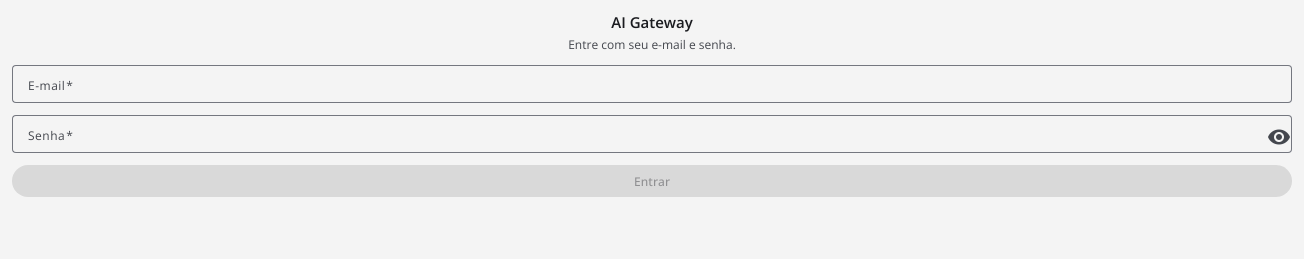
SignInComponent › error messages › should show the backend message when loading the current user fails
Type "ana@example.com" into the field named "email".
click(652, 84); type("ana@example.com")  # box x1=28 y1=72 x2=1276 y2=96
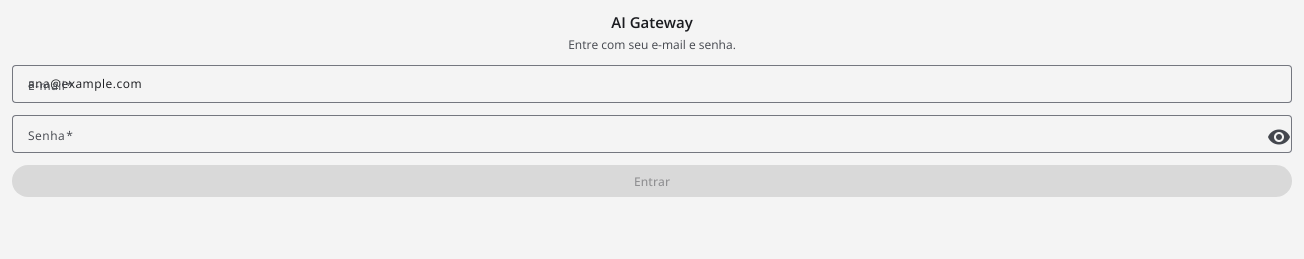
Type "secret-password" into the password field named "password".
click(642, 134); type("secret-password")  # box x1=28 y1=122 x2=1256 y2=146
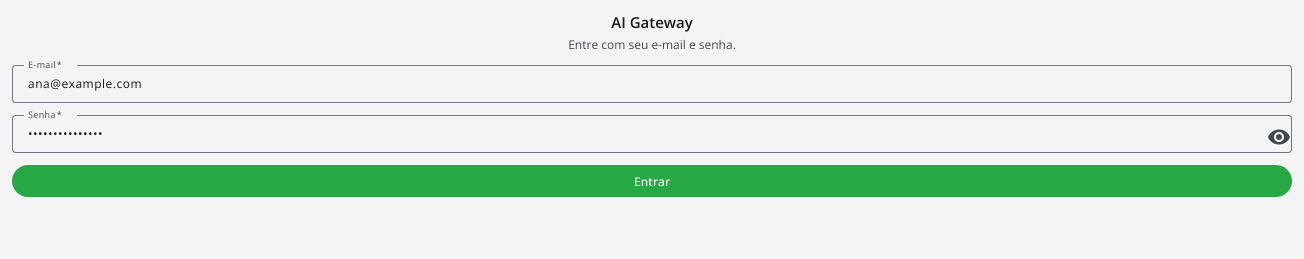
Submit the form with class "sign-in-form", box x1=12 y1=65 x2=1292 y2=197
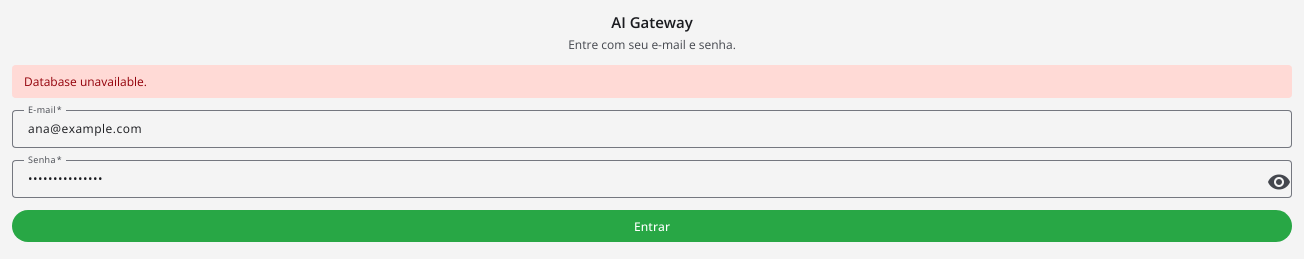
expect the text "Database unavailable." is shown: met, box x1=12 y1=65 x2=1292 y2=98
